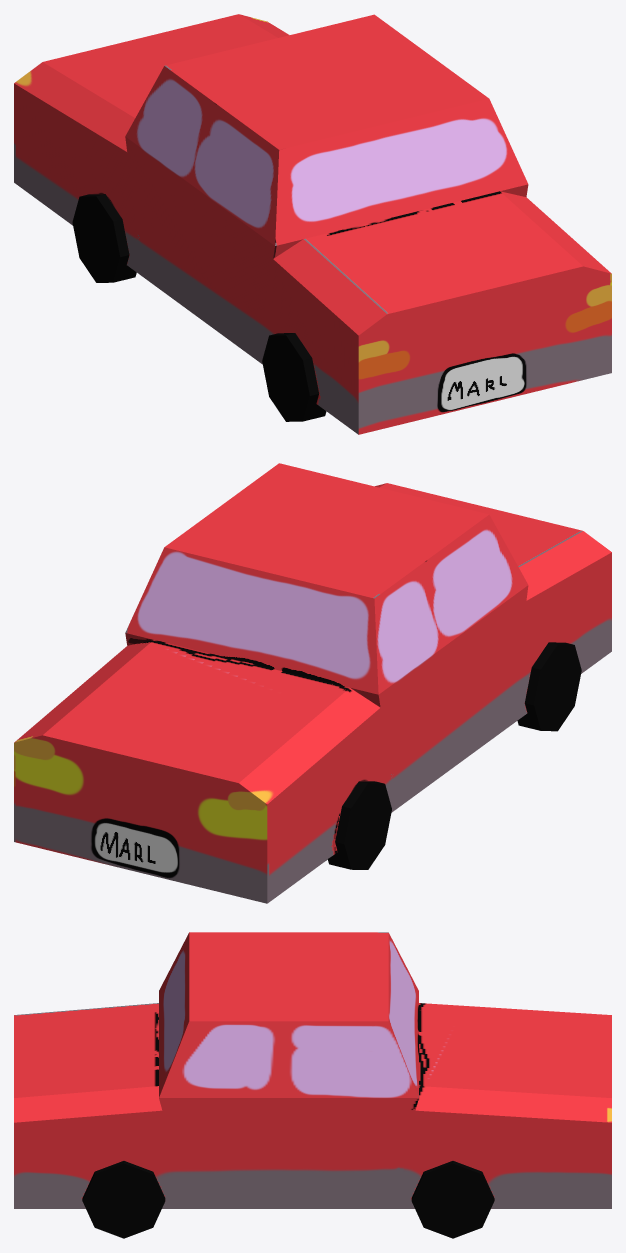
Rendered from car.glb.
3 renders of one model, top to bottom at view 1: azimuth 30°, elevation 25°; view 2: azimuth 150°, elevation 25°; view 3: azimuth 270°, elevation 25°, orthographic. The views are drawn at different scales.
Visible parts, largest first — view 1: Cube; view 2: Cube; view 3: Cube.
Boxes of the visible parts, x1,y1,x2,y2 form: Cube: (14,14,611,434); Cube: (14,463,611,903); Cube: (14,932,611,1238).
Size of the model in its own units: 1.77 by 1.48 by 3.91.
1 material, 1 textured.
